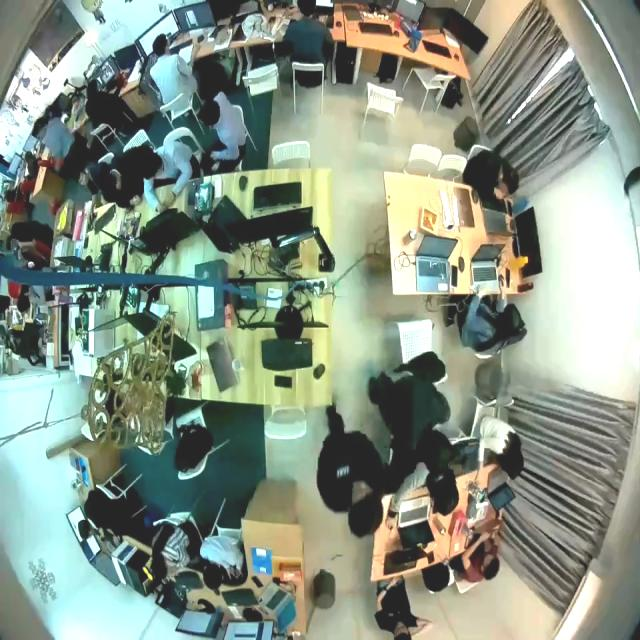staff-tag: (337, 465, 349, 477)
